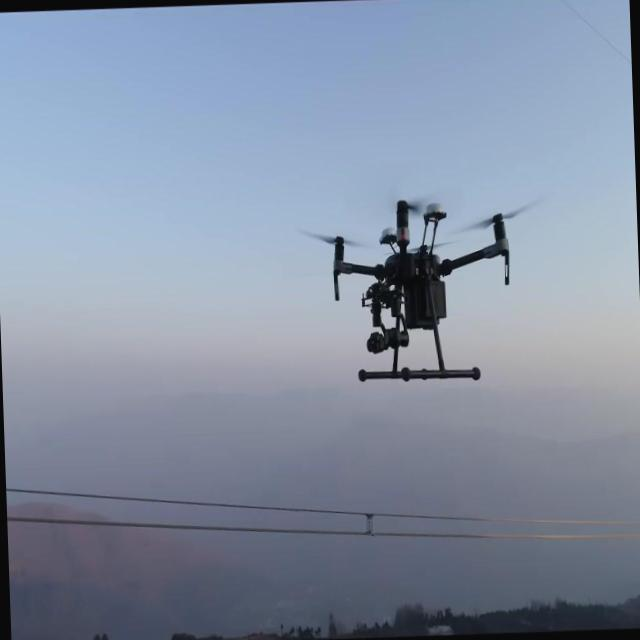drone: (305, 192, 523, 388)
